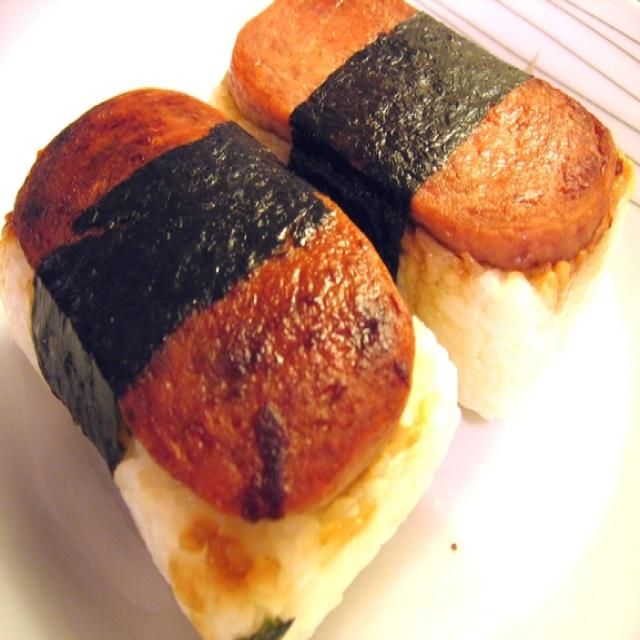寿司卷物: (6, 7, 626, 634)
